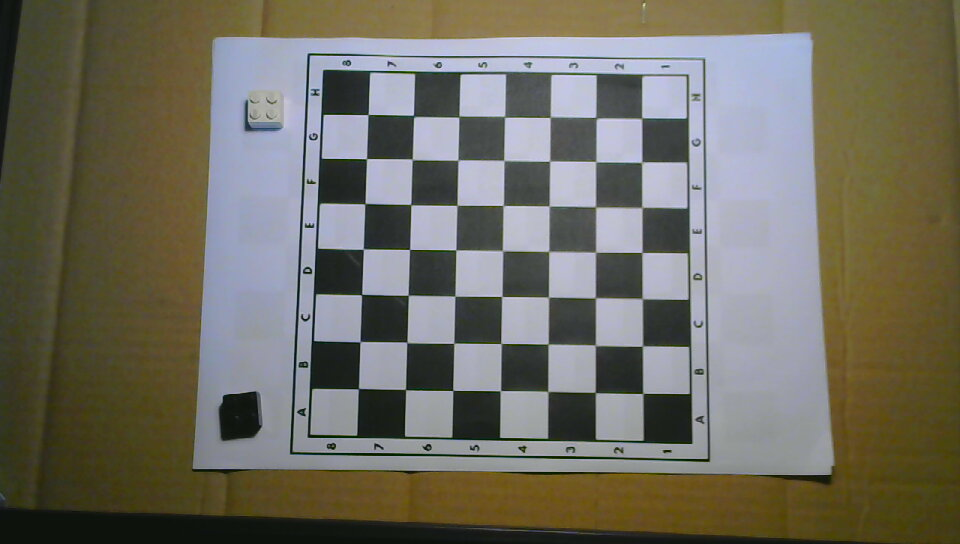bp: (220, 391, 263, 432)
wp: (246, 88, 286, 130)
